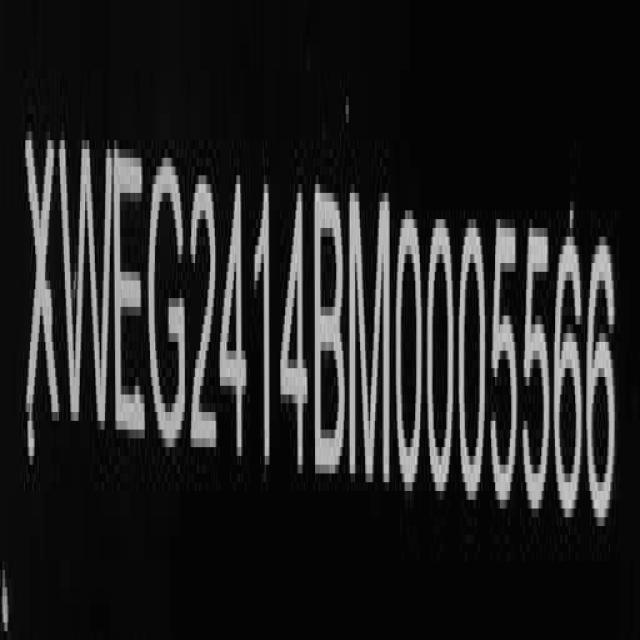0: (392, 188, 422, 494), (428, 208, 457, 504), (460, 210, 487, 506)
1: (254, 168, 274, 477)
2: (191, 162, 220, 468)
4: (218, 167, 250, 474), (279, 168, 310, 482)
5: (492, 207, 520, 512), (524, 212, 551, 516)
6: (589, 228, 620, 530), (554, 226, 582, 528)
B: (314, 177, 347, 485)
E: (114, 138, 147, 453)
G: (148, 145, 187, 461)
M: (352, 179, 392, 495)
W: (60, 125, 112, 456)
X: (24, 114, 61, 459)
